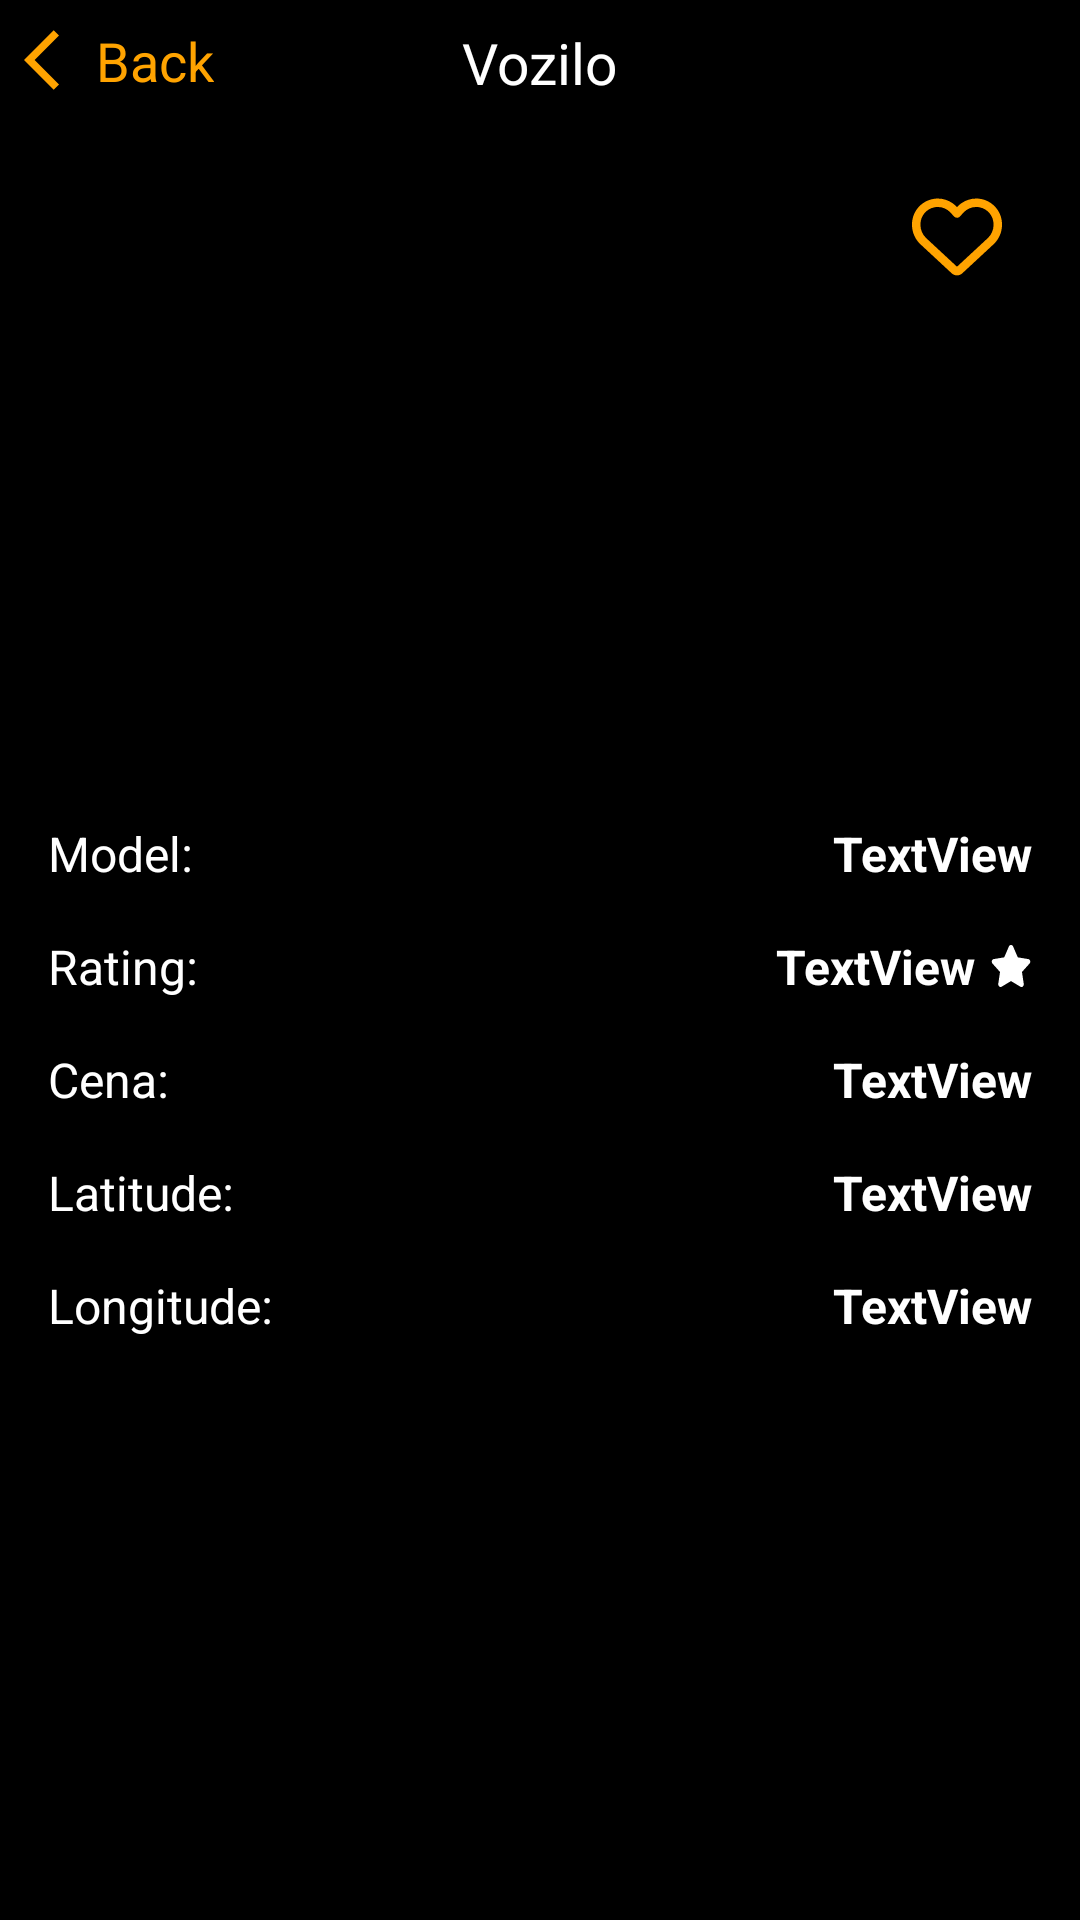

Screen size 1080 x 1920. Icon name, then its center in pixels as (x,y):
heart: (957,237)
